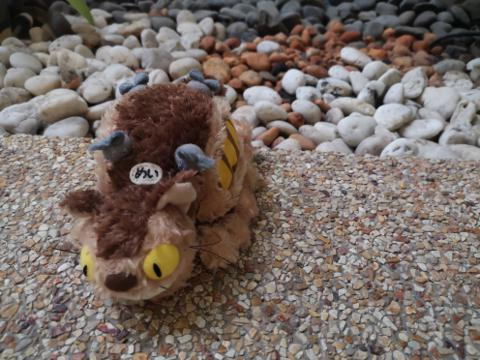nekobus: (55, 76, 266, 315)
